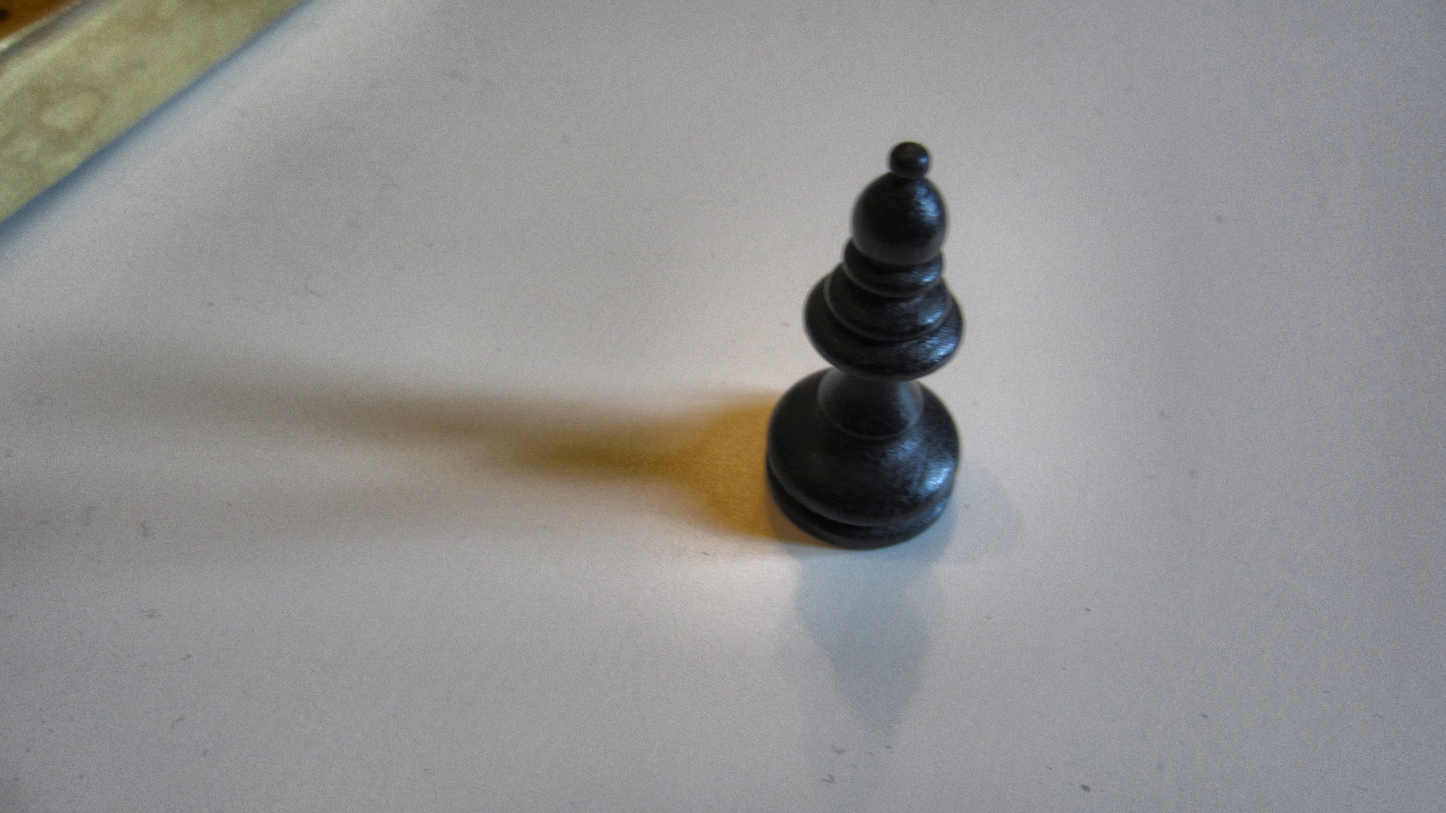black-bishop: (761, 134, 972, 551)
